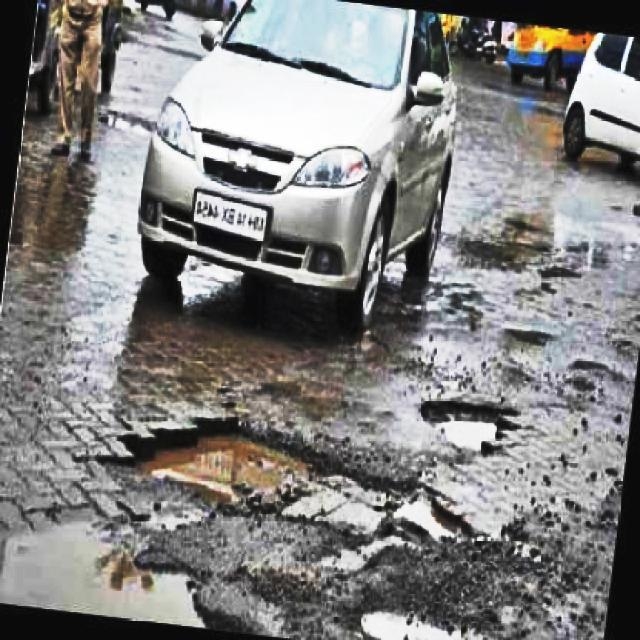pothole: (0, 515, 234, 640), (116, 412, 327, 510), (386, 474, 477, 549), (423, 391, 515, 458), (351, 598, 474, 640)
